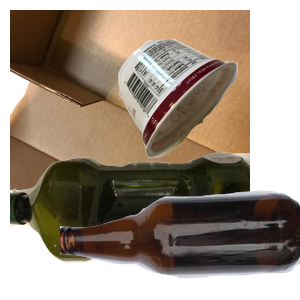cardboard: (10, 10, 250, 190)
glass: (60, 188, 300, 300)
plastic: (10, 149, 250, 300)
trash: (116, 36, 300, 187)
